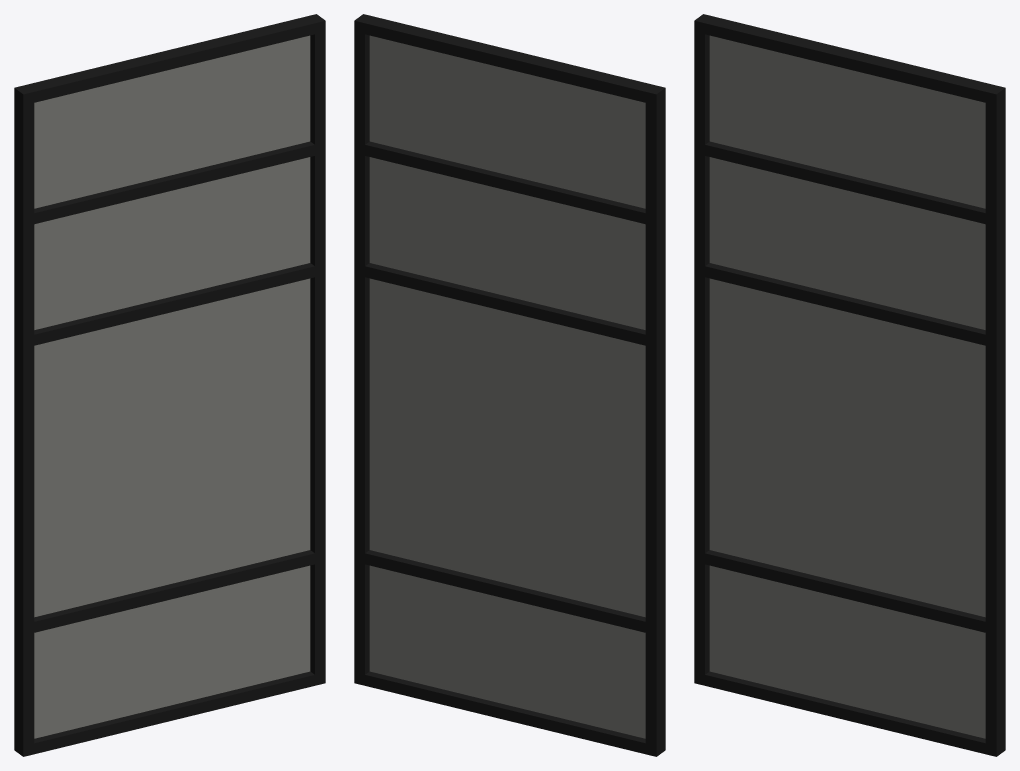
File: LIH0110013.fbx
The picture shows the model from 3 angles, left to right: view 1: azimuth 30°, elevation 25°; view 2: azimuth 150°, elevation 25°; view 3: azimuth 330°, elevation 25°; orthographic projection.
Parts seen in each view (by area): view 1: smLIH0110013; view 2: smLIH0110013; view 3: smLIH0110013.
Part boxes in pixels (box(x1,y1,x2,y2)): smLIH0110013: box(14, 14, 325, 756); smLIH0110013: box(354, 14, 665, 756); smLIH0110013: box(694, 14, 1005, 756).
Size of the model in its own units: 199 by 416 by 10.41.
1 material, 1 textured.
